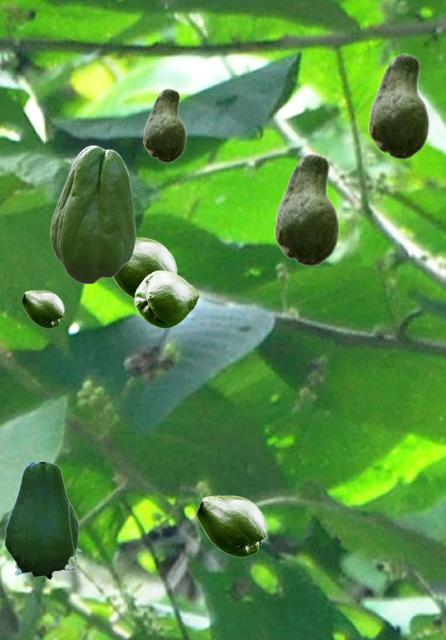sayote: (50, 145, 135, 283), (4, 462, 80, 581), (274, 153, 338, 266), (368, 53, 428, 159), (196, 495, 265, 556), (113, 237, 176, 298), (134, 270, 198, 327), (143, 88, 185, 162), (21, 290, 63, 327)
